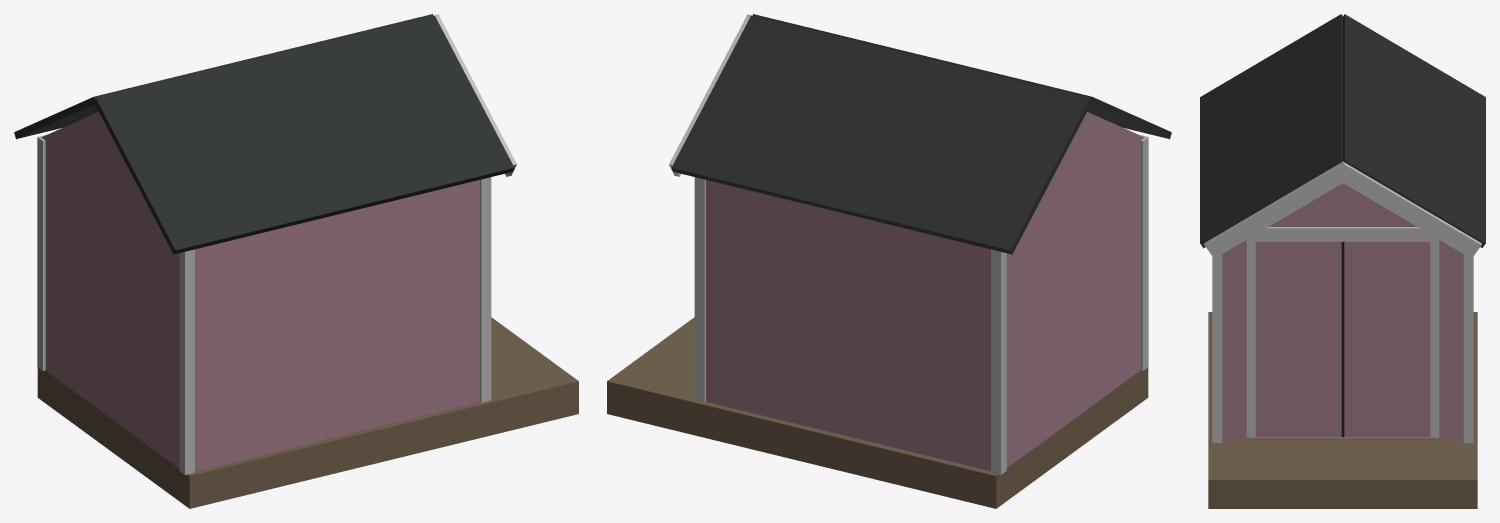
File: SM_Prop_coast_beachhut_5_LOD1.glb
3 views of the same model, side by side, from view 1: azimuth 30°, elevation 25°; view 2: azimuth 150°, elevation 25°; view 3: azimuth 270°, elevation 25° (orthographic). The views are drawn at different scales.
Visible parts, largest first — view 1: SM_Prop_coast_beachhut_5_LOD1; view 2: SM_Prop_coast_beachhut_5_LOD1; view 3: SM_Prop_coast_beachhut_5_LOD1.
Boxes of the visible parts, box(x1,y1,x2,y2) form: SM_Prop_coast_beachhut_5_LOD1: box(14, 14, 578, 508); SM_Prop_coast_beachhut_5_LOD1: box(607, 14, 1171, 508); SM_Prop_coast_beachhut_5_LOD1: box(1200, 14, 1485, 508).
Size of the model in its own units: 3.25 by 2.74 by 2.23.
